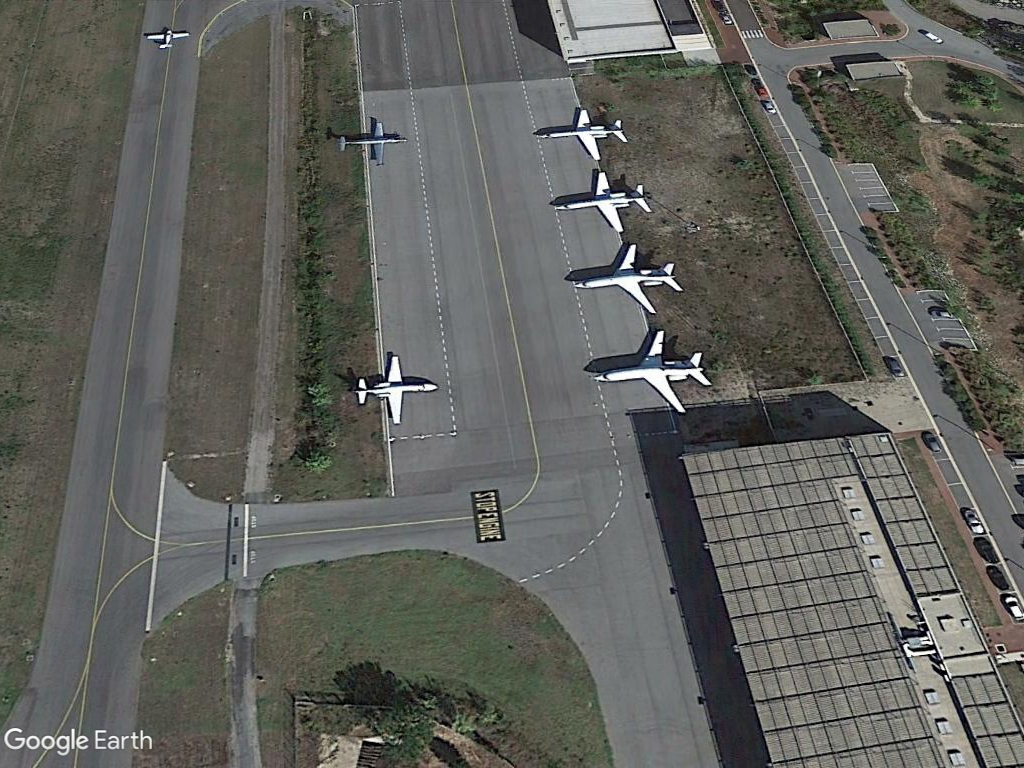chartered: (586, 328, 717, 416), (569, 242, 688, 317), (344, 352, 442, 429), (552, 168, 652, 235), (534, 110, 634, 161)
trainer: (141, 23, 194, 53)
